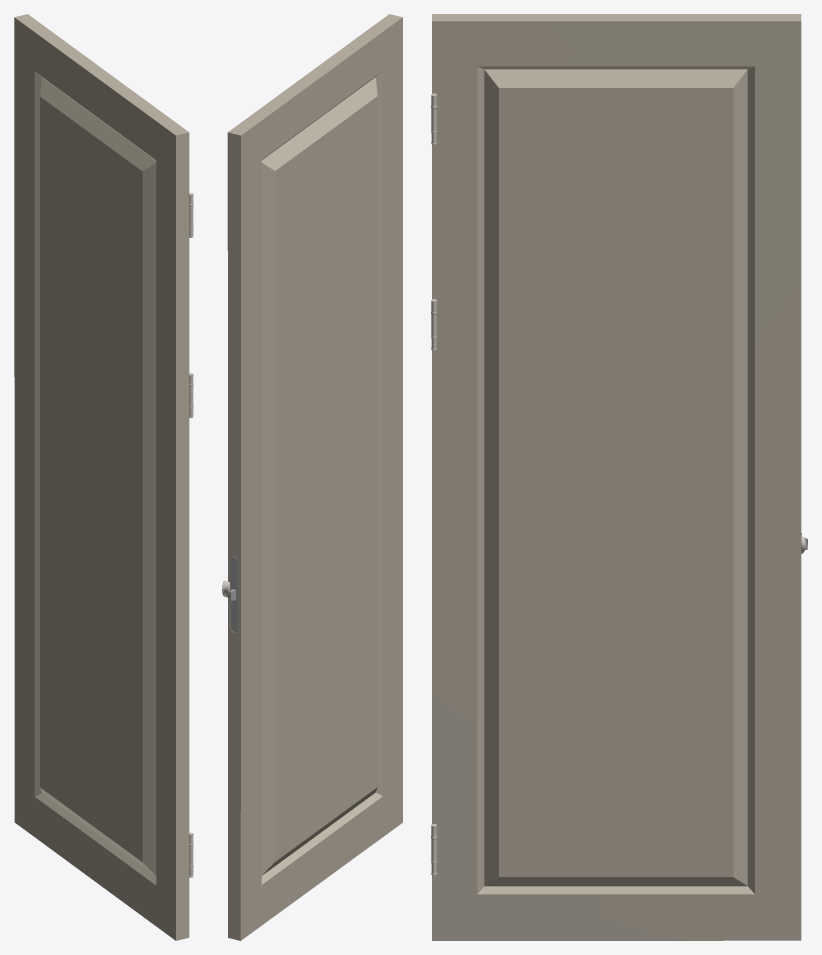
File: 81_ASTRA_Door.glb
The picture shows the model from 3 angles, left to right: view 1: azimuth 30°, elevation 25°; view 2: azimuth 150°, elevation 25°; view 3: azimuth 270°, elevation 25°; orthographic projection. The views are drawn at different scales.
Parts seen in each view (by area): view 1: 81_ASTRA_Door; view 2: 81_ASTRA_Door; view 3: 81_ASTRA_Door.
Part boxes in pixels (bbox=[...]): 81_ASTRA_Door: bbox=[14, 14, 193, 940]; 81_ASTRA_Door: bbox=[222, 14, 402, 940]; 81_ASTRA_Door: bbox=[431, 14, 807, 940].
Bounding box in the file's own units: 0.0636 × 2.2 × 0.8163.
